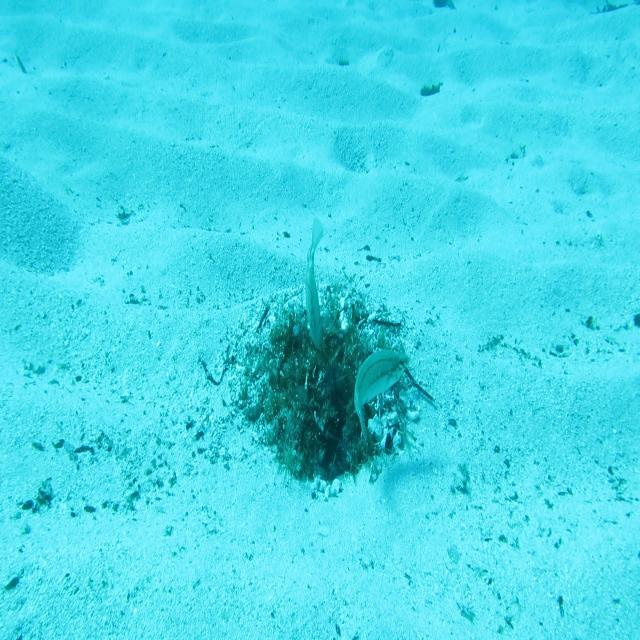NIP_CORE: (301, 213, 327, 357)
core_nest: (299, 331, 342, 394)
female: (352, 345, 412, 448)
nest: (219, 252, 434, 506)
vegetation: (420, 78, 444, 98)
